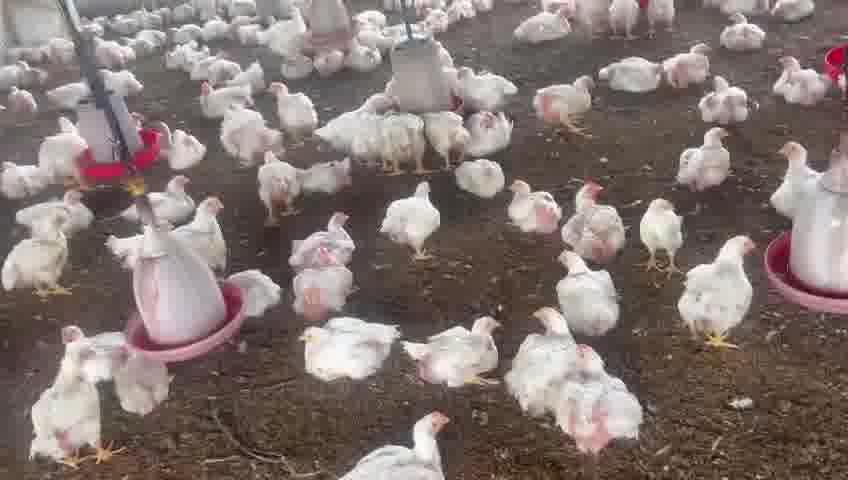Normal: (33, 346, 121, 471), (558, 340, 648, 456), (401, 309, 511, 400), (675, 229, 751, 353), (284, 306, 391, 390), (337, 407, 452, 480), (0, 216, 79, 293), (554, 251, 626, 333), (265, 248, 351, 314), (560, 176, 626, 261), (385, 174, 445, 260), (501, 182, 565, 257), (539, 69, 606, 138), (165, 195, 235, 260), (770, 135, 820, 224), (636, 185, 688, 270), (221, 107, 286, 168), (265, 81, 328, 143), (680, 124, 732, 196), (446, 152, 513, 205), (701, 70, 759, 131), (456, 60, 521, 111), (295, 213, 359, 264), (248, 151, 299, 215), (33, 188, 101, 236), (596, 53, 665, 99), (388, 112, 426, 185), (159, 125, 208, 178), (198, 79, 262, 115), (464, 118, 516, 161), (719, 9, 763, 58)
